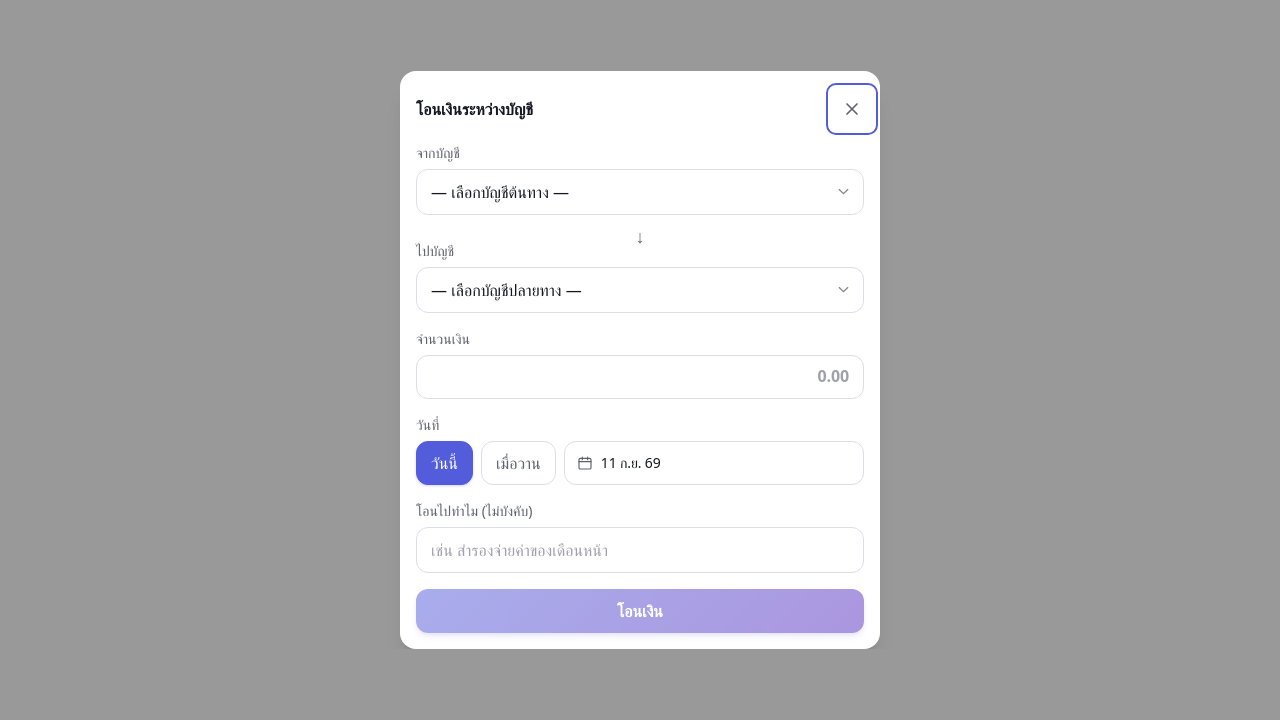
Test case: โอนเงินใหม่ › กดโอนไม่ได้จนกว่าจะครบ จำนวน ต้นทาง และปลายทาง
Type "3000" into the field labelled "จำนวนเงิน" at (640,377), box [416, 355, 864, 399]
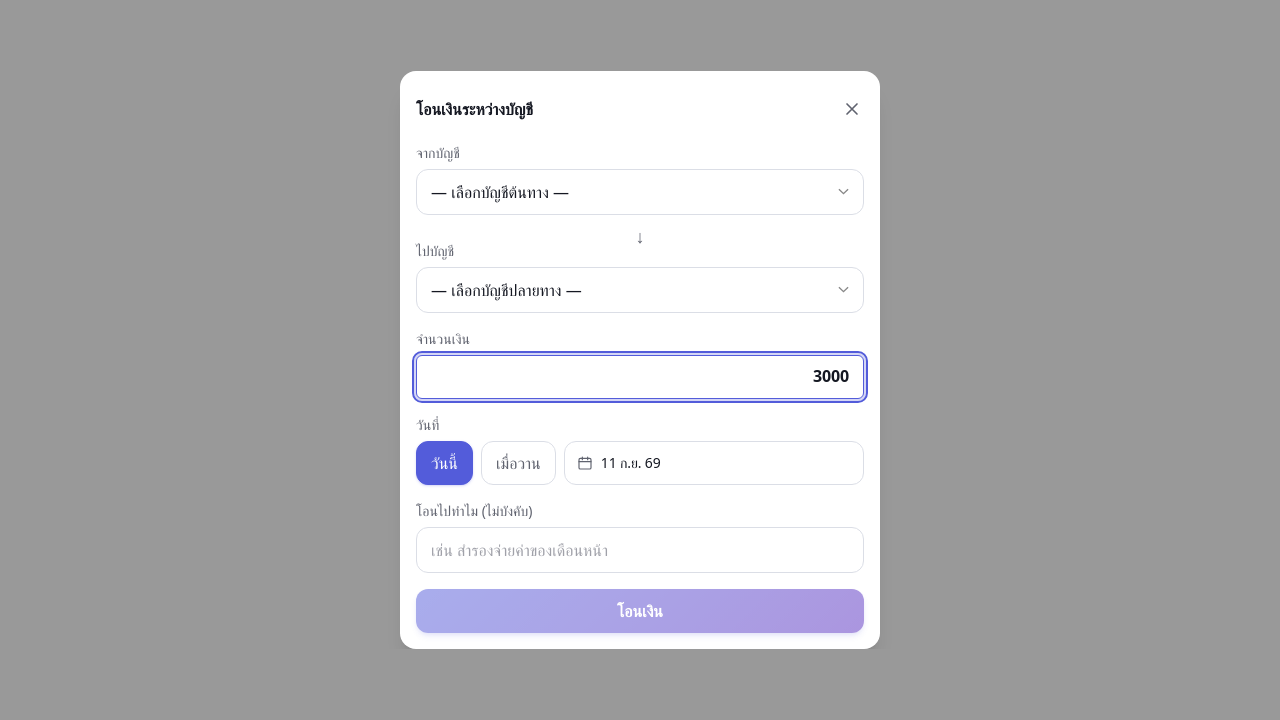
Expected: the button "โอนเงิน" is disabled, [416, 589, 864, 633]
Select "SCB · 10,000" in the dropdown labelled "จากบัญชี" at (640,192), box [416, 169, 864, 215]
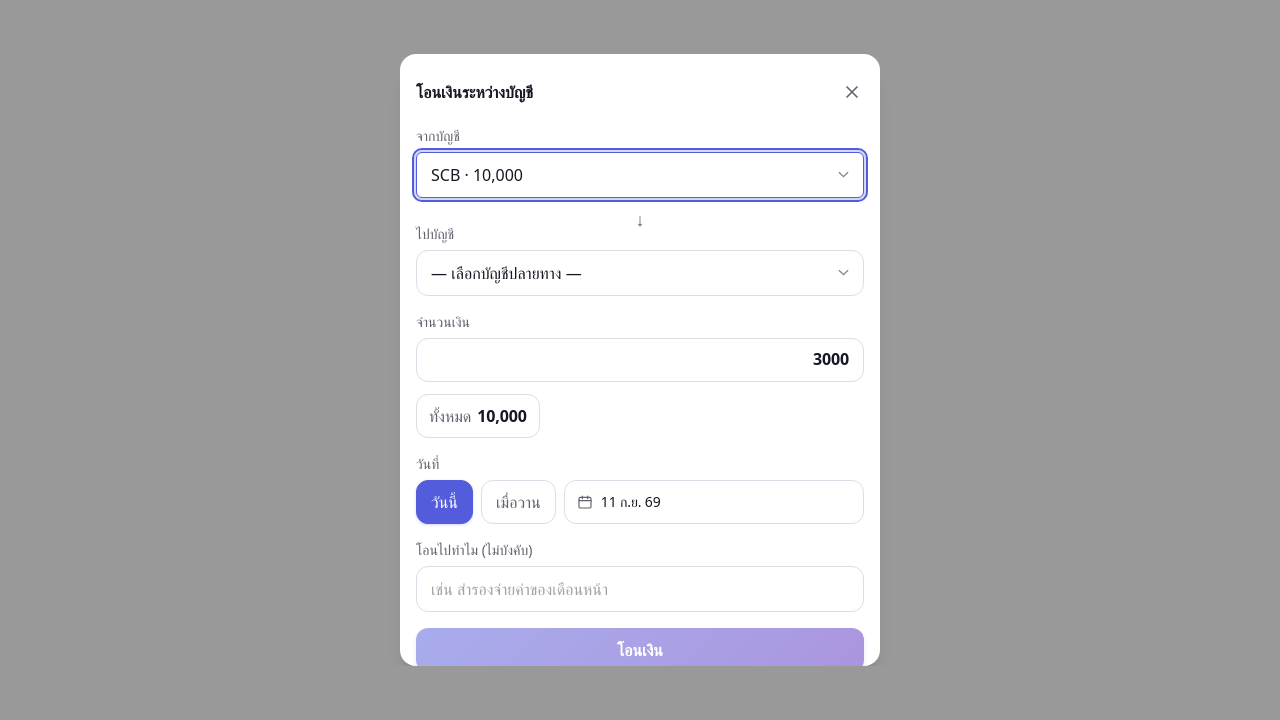
Expected: the button "โอนเงิน" is disabled, [416, 628, 864, 666]
Select "กรุงไทย · 2,000" in the dropdown labelled "ไปบัญชี" at (640,273), box [416, 250, 864, 296]
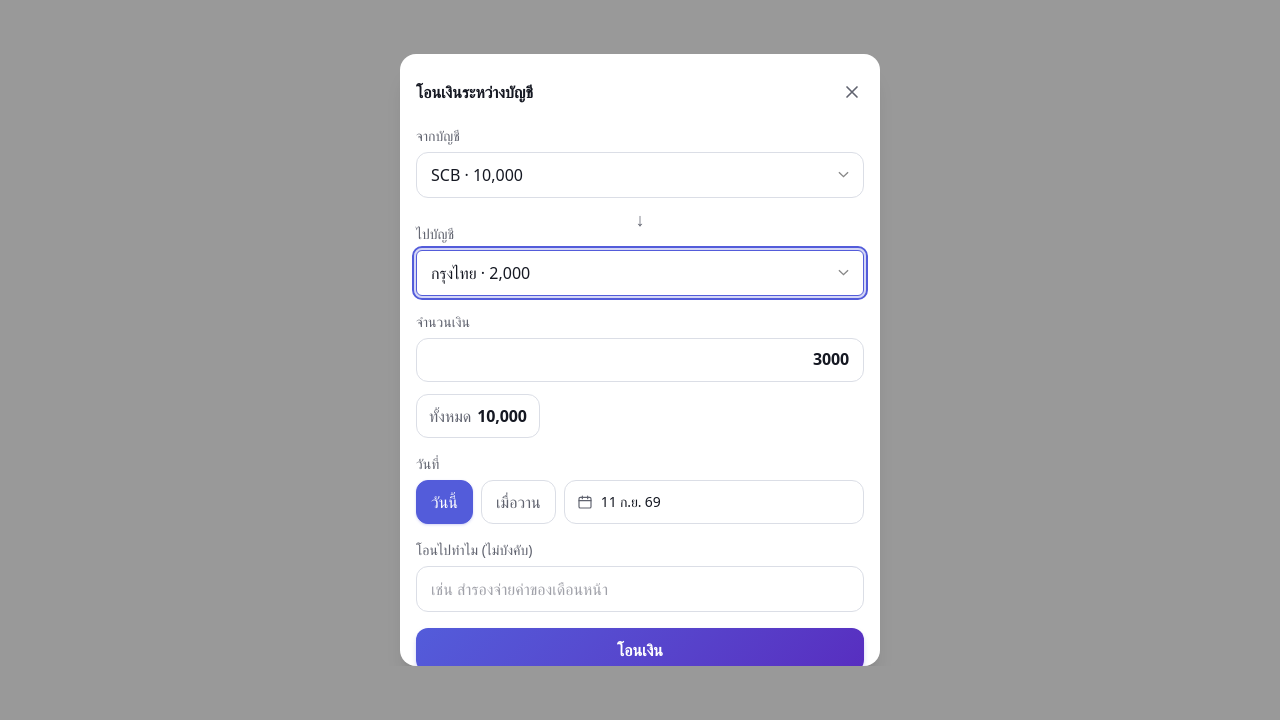
Expected: the button "โอนเงิน" is enabled, [416, 628, 864, 666]
